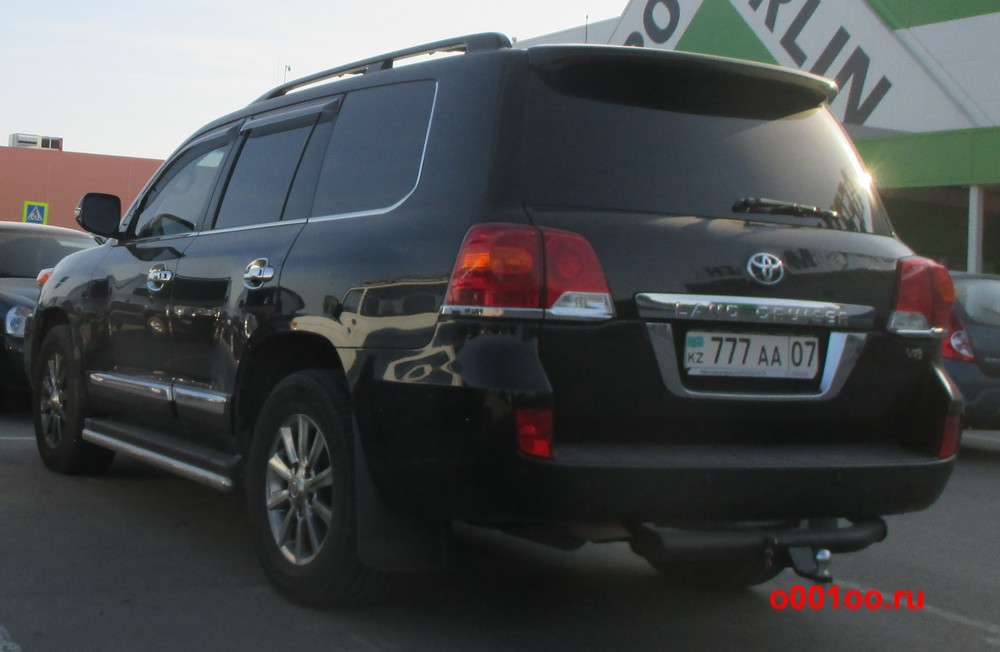license_plate: (686, 332, 821, 378)
